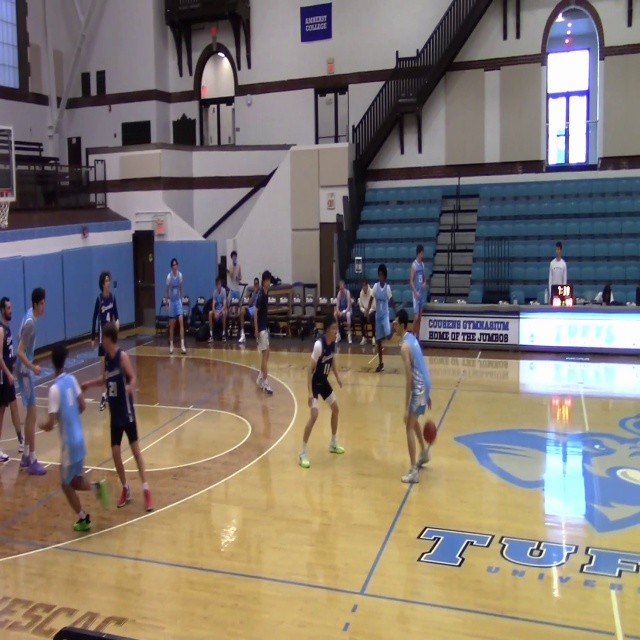Basketball: (423, 420, 437, 444)
